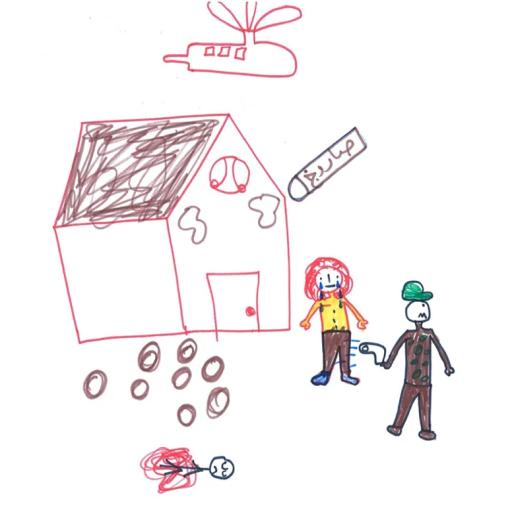person: (387, 274, 458, 446), (290, 248, 372, 396)
